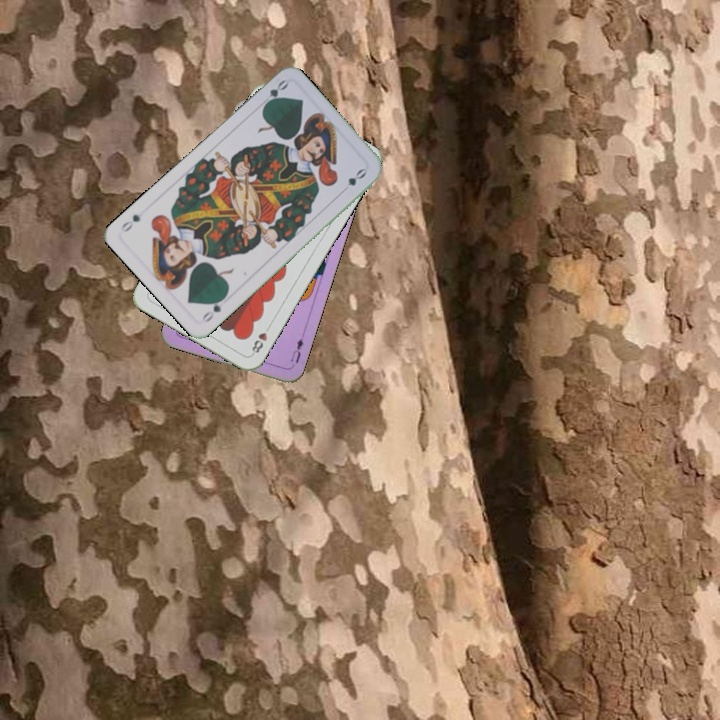EU: (286, 330, 307, 366)
GO: (256, 76, 291, 111), (198, 292, 229, 325)
H8: (248, 321, 273, 358)
